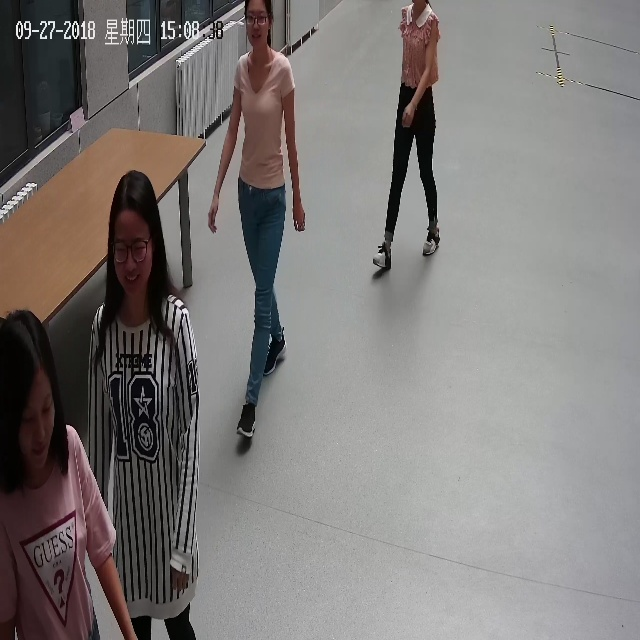head: (2, 300, 68, 471), (102, 164, 170, 304), (239, 0, 277, 50)
